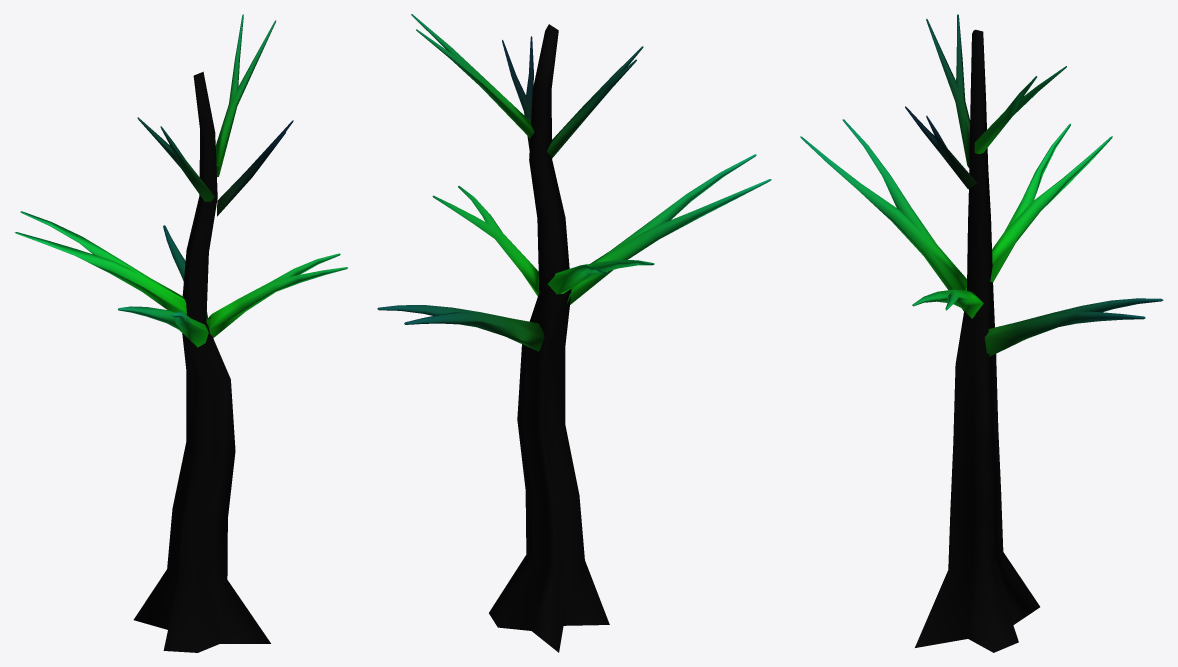
The model's file is TreeFive.fbx.
The picture shows the model from 3 angles, left to right: view 1: azimuth 30°, elevation 25°; view 2: azimuth 150°, elevation 25°; view 3: azimuth 270°, elevation 25°; orthographic projection. The views are drawn at different scales.
Visible parts, largest first — view 1: Tree_0; view 2: Tree_0; view 3: Tree_0.
Boxes of the visible parts, <box> form: Tree_0: <box>14,14,347,652</box>; Tree_0: <box>377,14,771,652</box>; Tree_0: <box>800,14,1163,652</box>.
Bounding box in the file's own units: 51.07 × 102 × 55.55.
